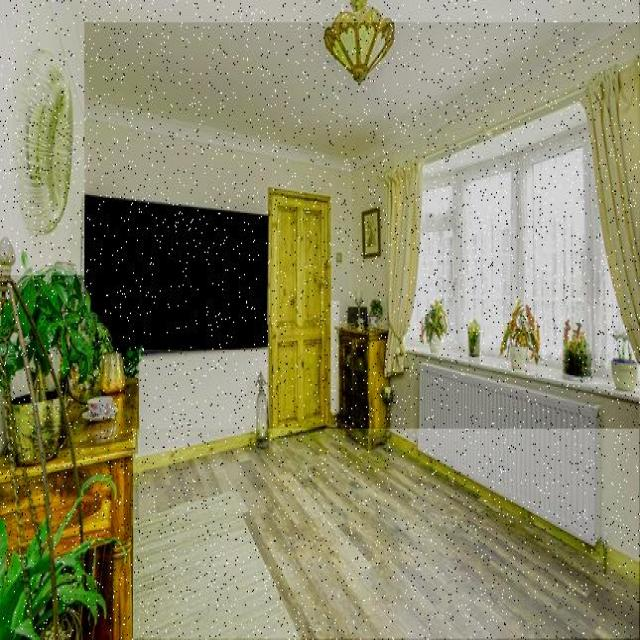Wall: (85, 23, 639, 324), (134, 429, 639, 639), (52, 0, 639, 170), (391, 354, 640, 560), (0, 0, 84, 275), (140, 350, 267, 452), (331, 302, 339, 412)
